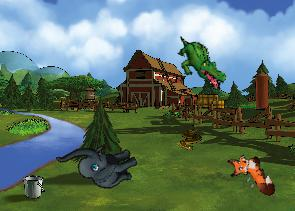crocodile: (166, 34, 235, 92)
elephant: (55, 123, 143, 205)
fox: (223, 145, 278, 207)
